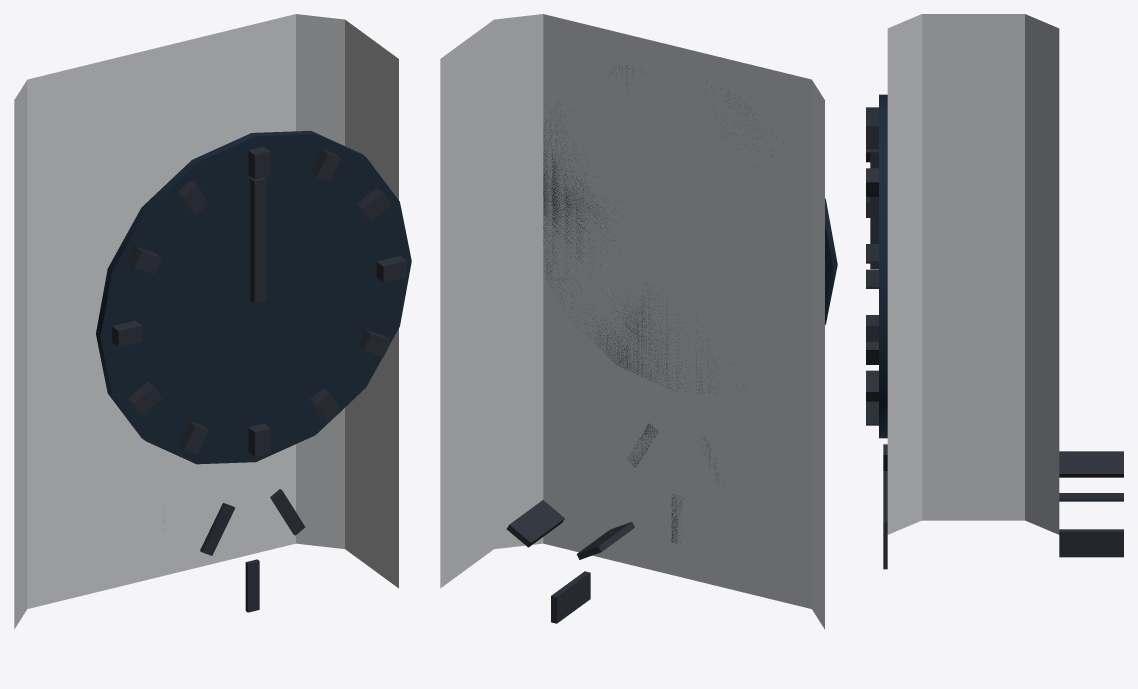
File: plug-timer-mechanical.glb
3 renders of one model, left to right at view 1: azimuth 30°, elevation 25°; view 2: azimuth 150°, elevation 25°; view 3: azimuth 270°, elevation 25°, orthographic. The views are drawn at different scales.
Visible parts, largest first — view 1: plug_body, plug_dial_face, timer_dial_tabs, plug_socket_face; view 2: plug_body, plug_dial_face, plug_pins, plug_socket_face; view 3: plug_body, plug_pins, timer_dial_tabs, plug_dial_face, plug_socket_face.
Boxes of the visible parts, x1,y1,x2,y2 form: plug_body: (14,14,398,628); plug_dial_face: (96,131,411,464); timer_dial_tabs: (112,146,406,456); plug_socket_face: (200,489,305,612); plug_body: (440,14,824,629); plug_dial_face: (543,65,837,394); plug_pins: (506,500,634,623); plug_socket_face: (627,423,722,543); plug_body: (887,14,1059,534); plug_pins: (1059,451,1123,557); timer_dial_tabs: (866,107,878,425); plug_dial_face: (879,94,887,438); plug_socket_face: (883,444,887,569).
Size of the model in its own units: 0.085 by 0.13 by 0.06.
